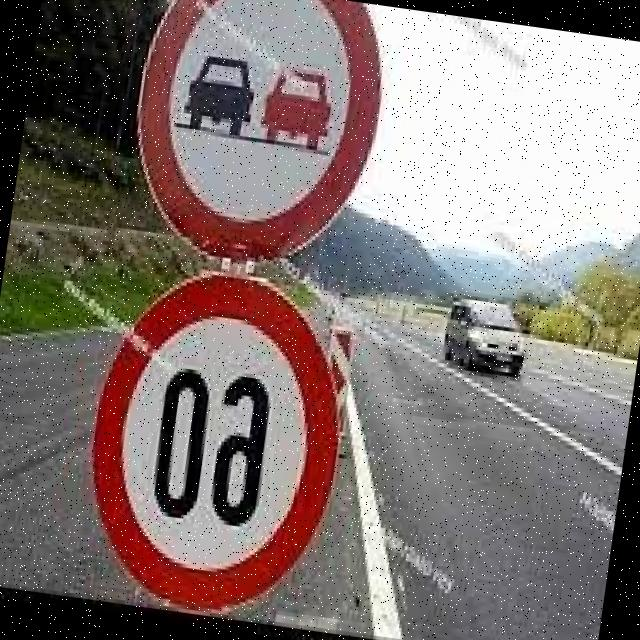speed_limit_60: (64, 248, 367, 636)
